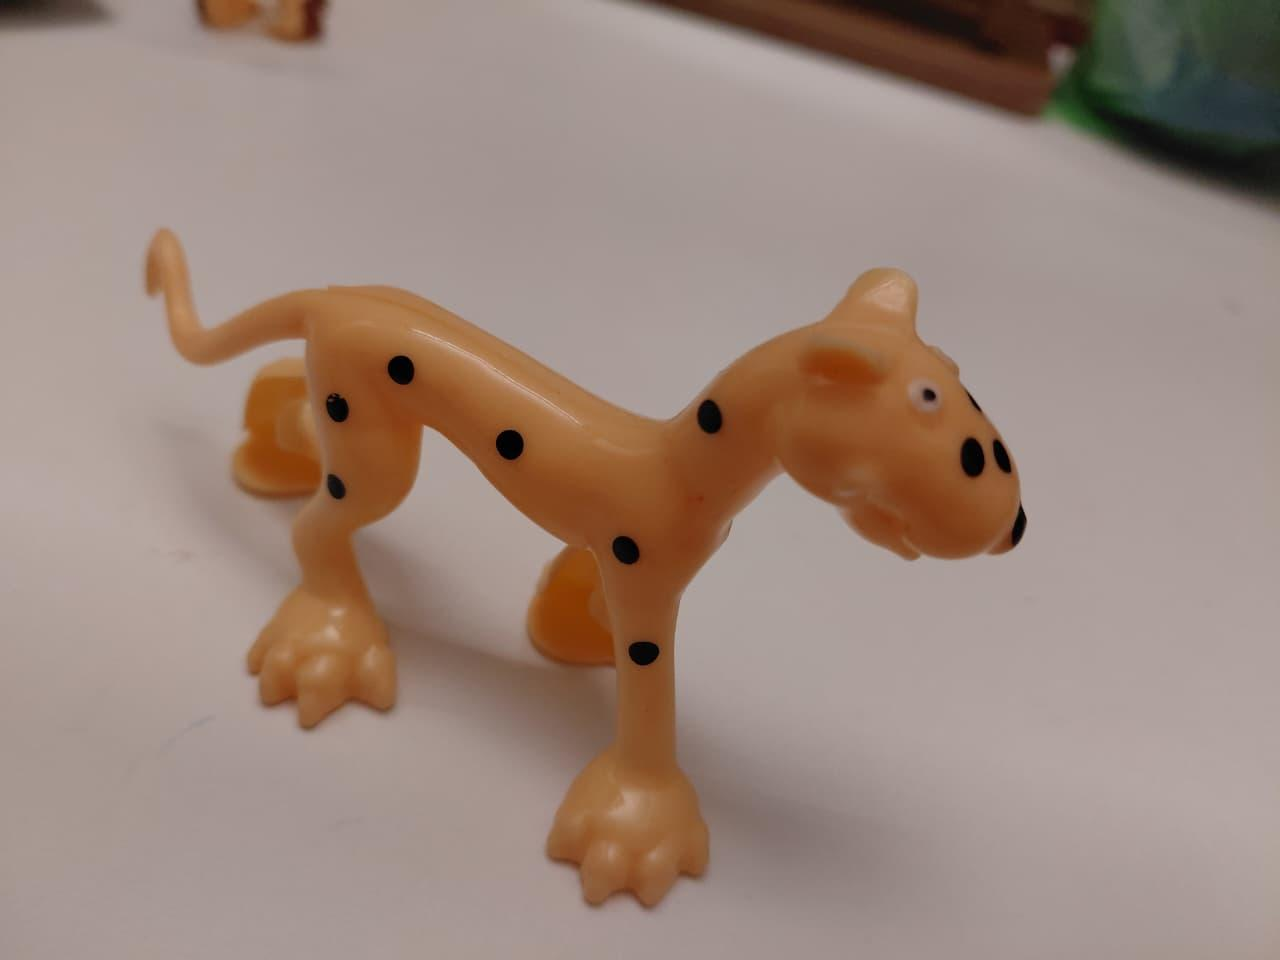cheetah: (114, 195, 1119, 916)
